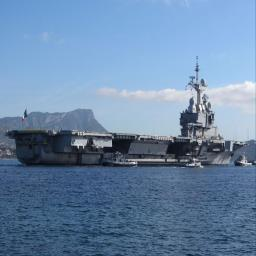Portanaves: (6, 55, 253, 169)
